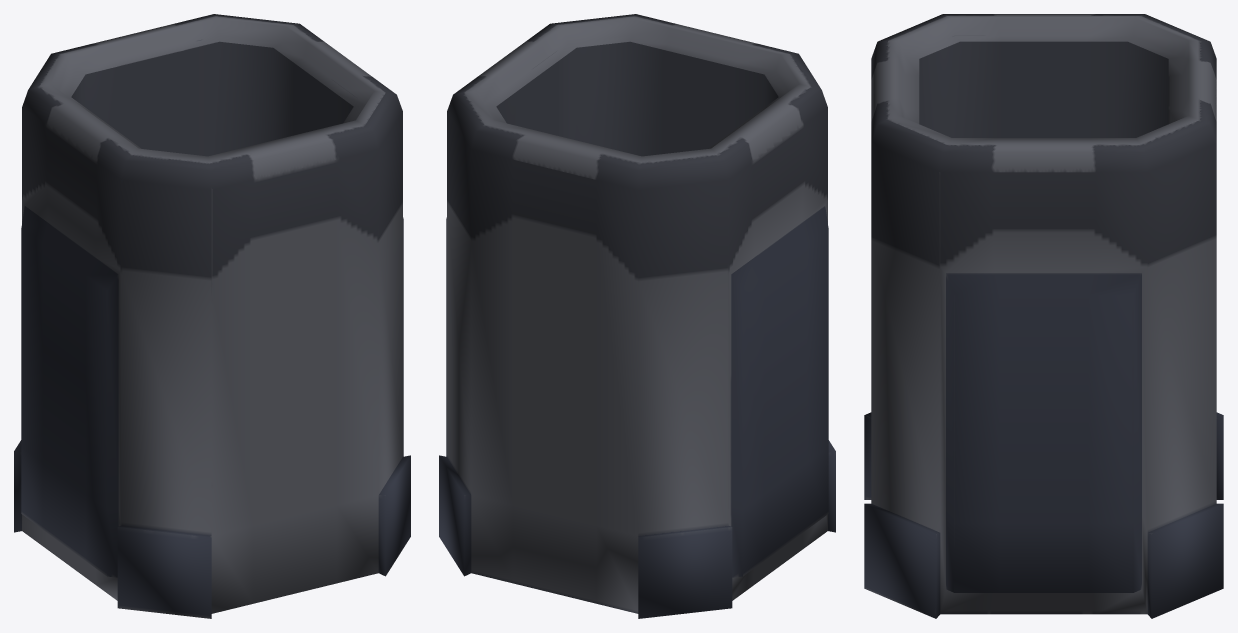
Rendered from TrashCan.fbx.
The picture shows the model from 3 angles, left to right: view 1: azimuth 30°, elevation 25°; view 2: azimuth 150°, elevation 25°; view 3: azimuth 270°, elevation 25°; orthographic projection. The views are drawn at different scales.
Visible parts, largest first — view 1: Cube.020; view 2: Cube.020; view 3: Cube.020.
Boxes of the visible parts, x1,y1,x2,y2 form: Cube.020: (14, 14, 410, 618); Cube.020: (439, 14, 835, 618); Cube.020: (864, 14, 1223, 618).
Bounding box in the file's own units: 47.83 × 68.92 × 48.17.
2 materials, 1 textured.
